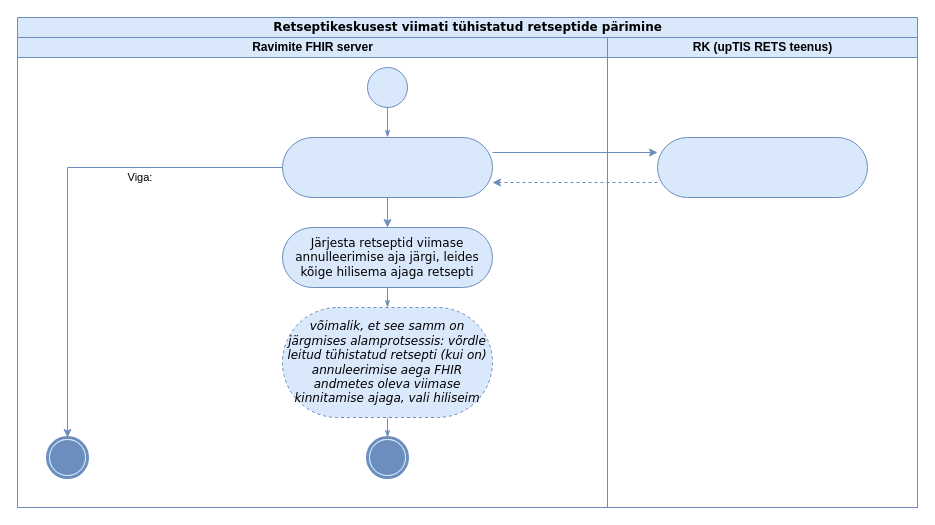
This 935x525 diagram has some shape labels left out. The centre of each missing label's shape, as x and y in pixels:
Päri kõik viimase 540p jooksul tekkinud tühistatud retseptid: pixel 387 167
rets.retseptide_info_var: pixel 762 167
